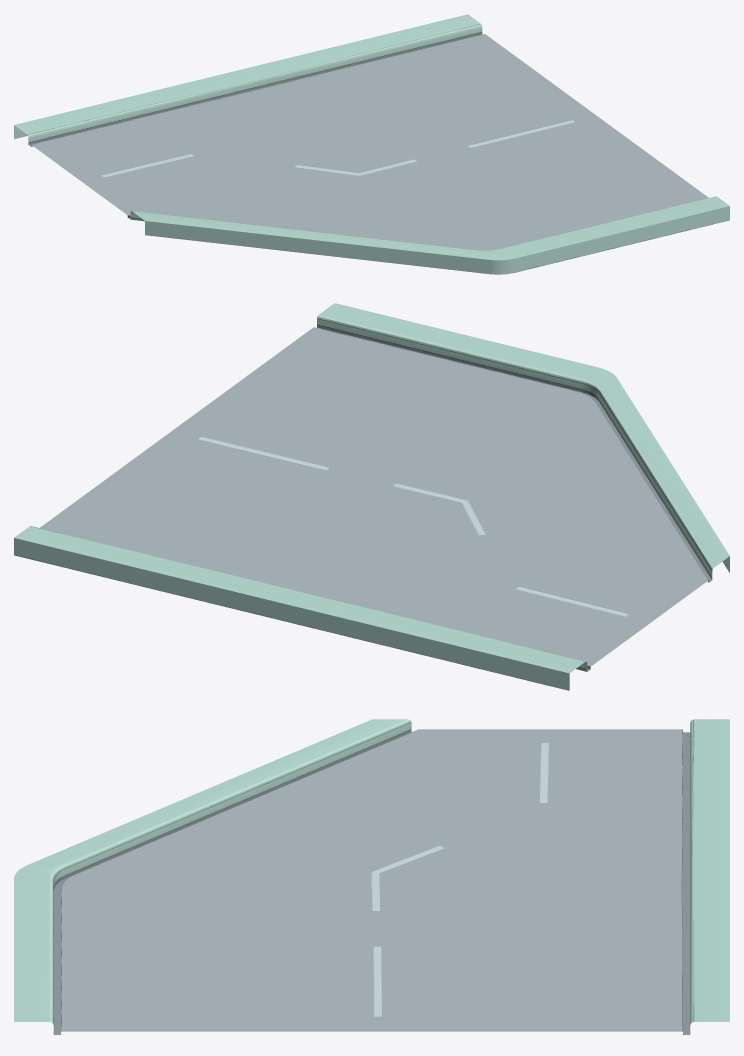
File: 1-2Trans.fbx
3 renders of one model, top to bottom at view 1: azimuth 30°, elevation 25°; view 2: azimuth 150°, elevation 25°; view 3: azimuth 270°, elevation 25°, orthographic. The views are drawn at different scales.
Parts seen in each view (by area): view 1: pPlane9; view 2: pPlane9; view 3: pPlane9.
Part boxes in pixels (x1,y1,x2,y2): pPlane9: [14, 14, 729, 274]; pPlane9: [14, 303, 729, 690]; pPlane9: [14, 719, 729, 1034].
Size of the model in its own units: 2 by 0.06 by 2.
1 material, 1 textured.
